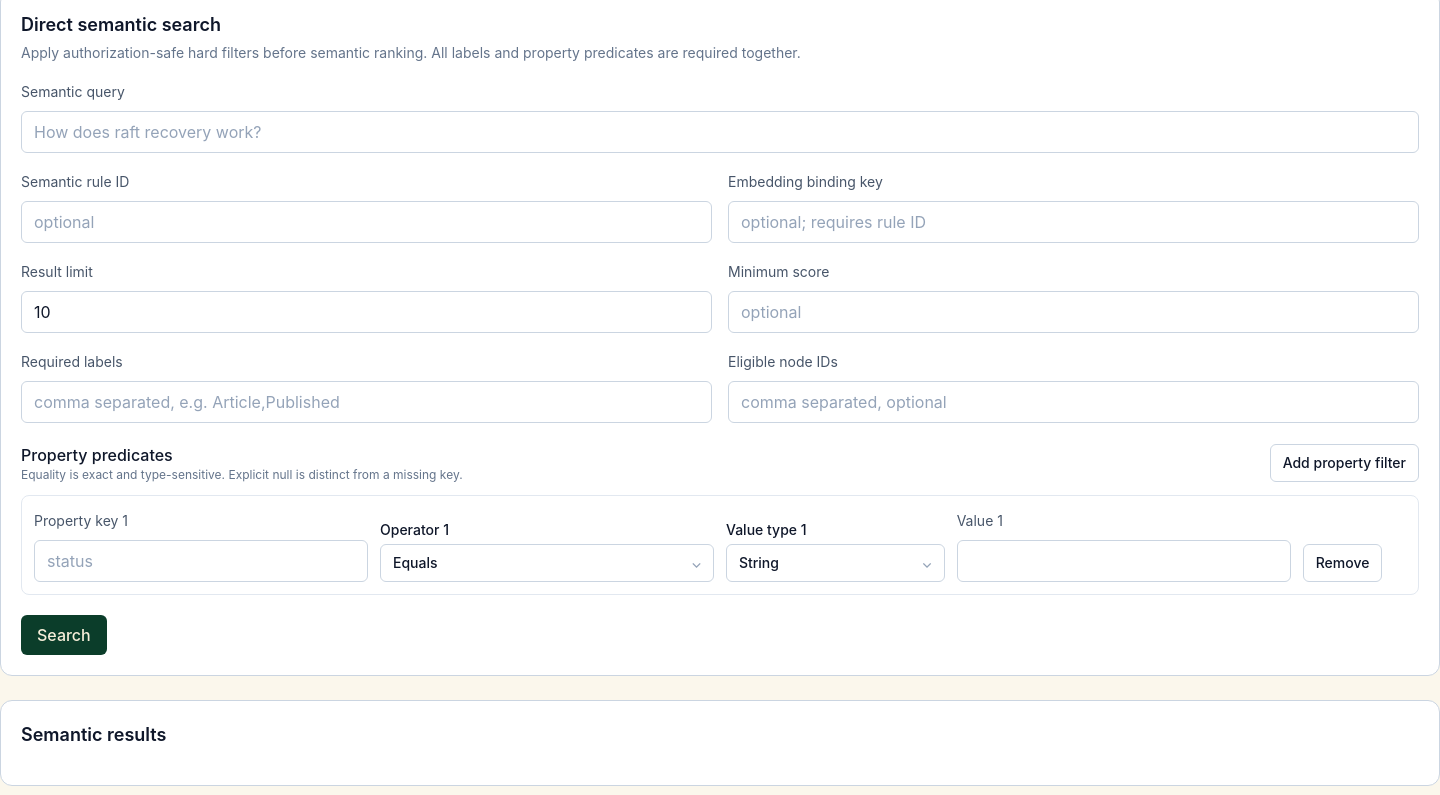
it: surfaces a stale continuation error without restarting
Type "raft recovery" into the field labelled "Semantic query".
click(720, 132); type("raft recovery")  # box [21,111,1419,153]
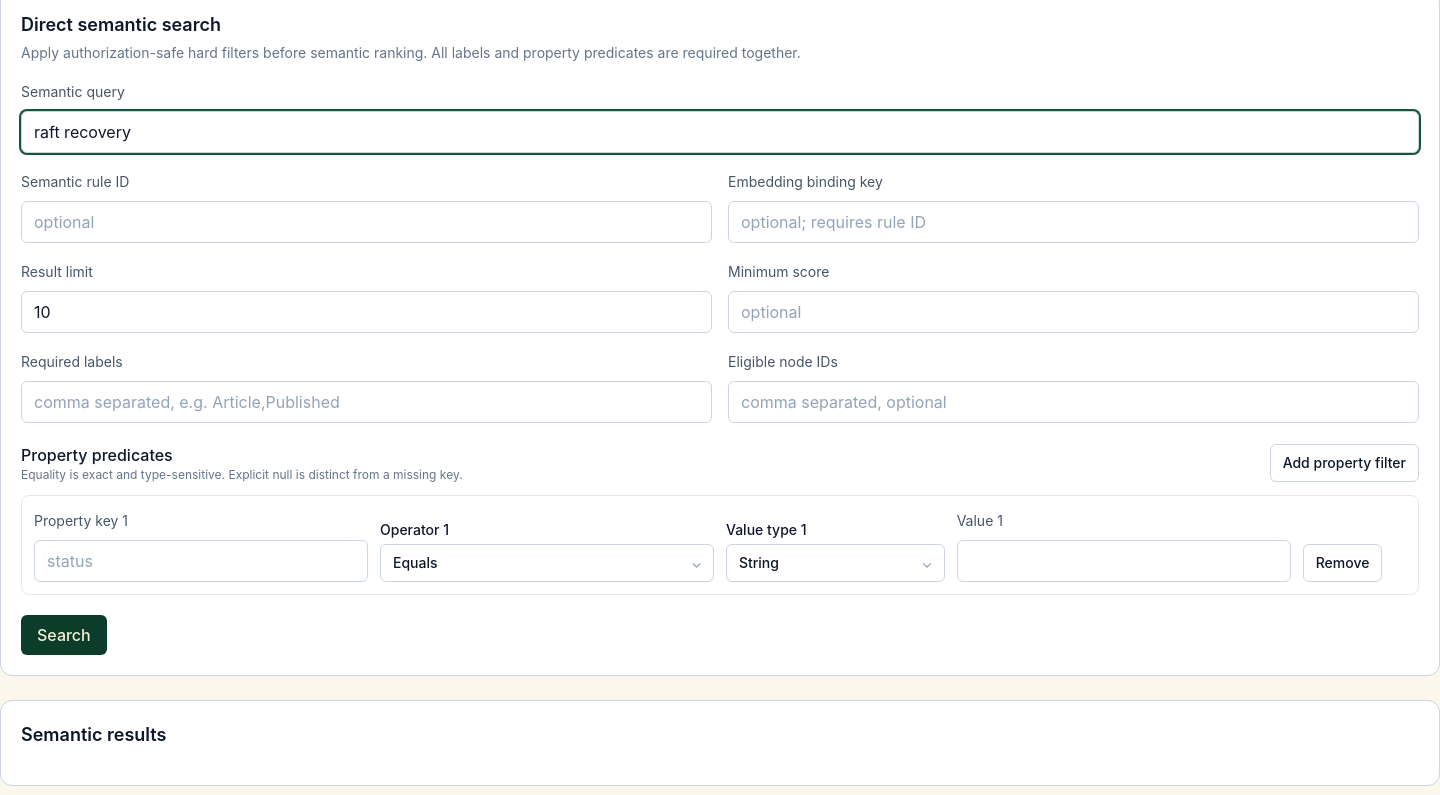
Click the button "Search".
click(64, 635)  # box [21,615,107,655]
(page scrolled)
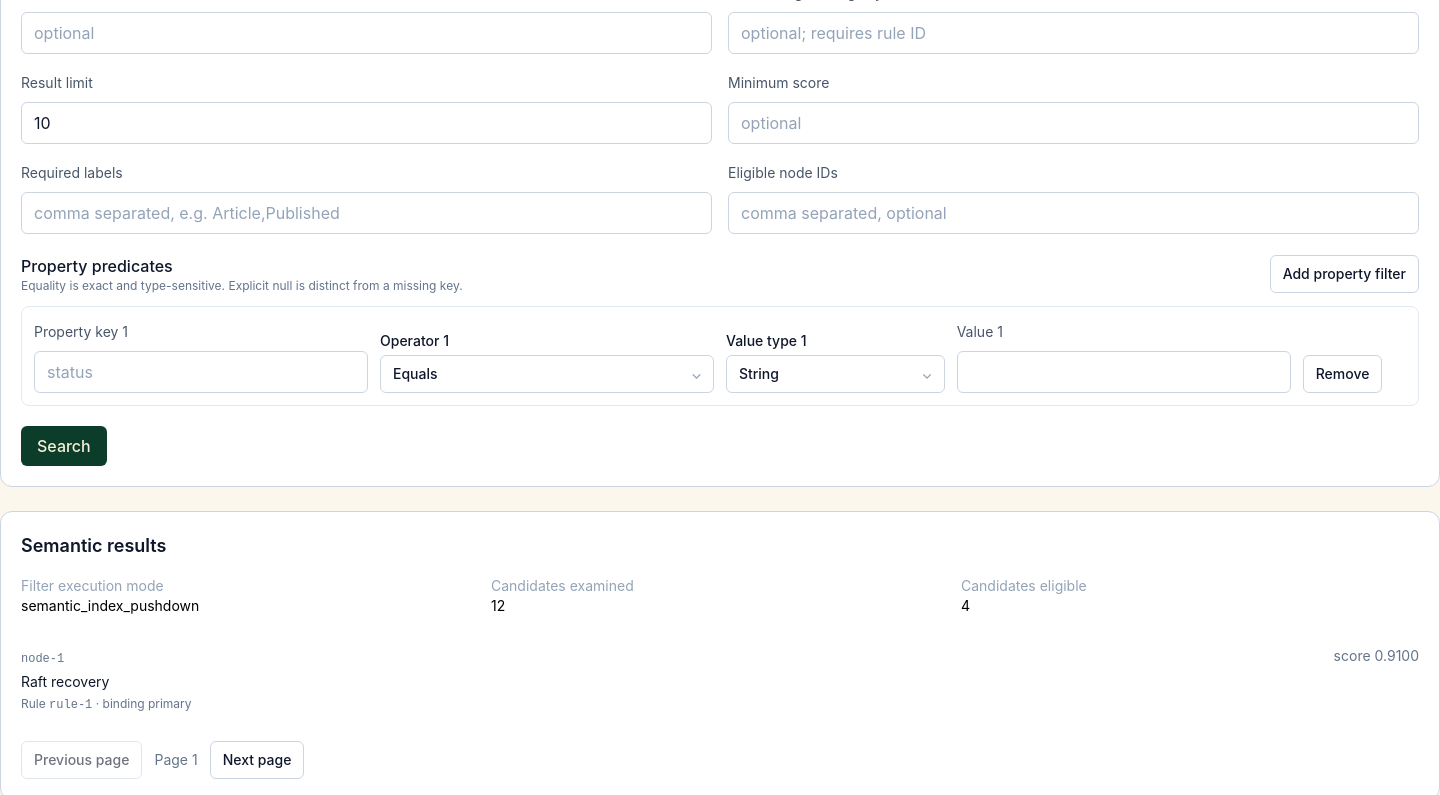
Click the button "Next page".
click(257, 760)  # box [210,741,304,779]
(page scrolled)
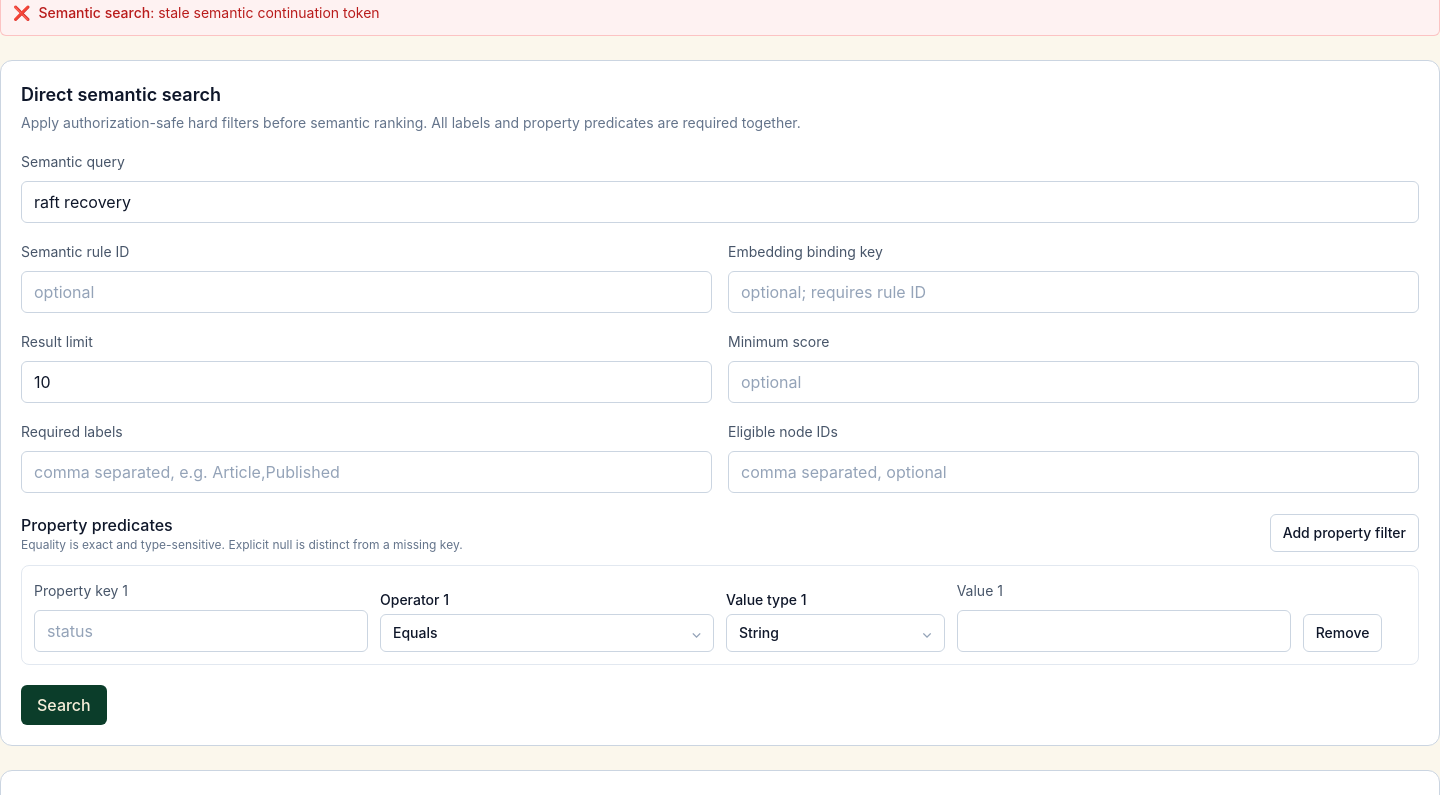
Now the message shows "stale semantic continuation token", box [158,4,380,21]
